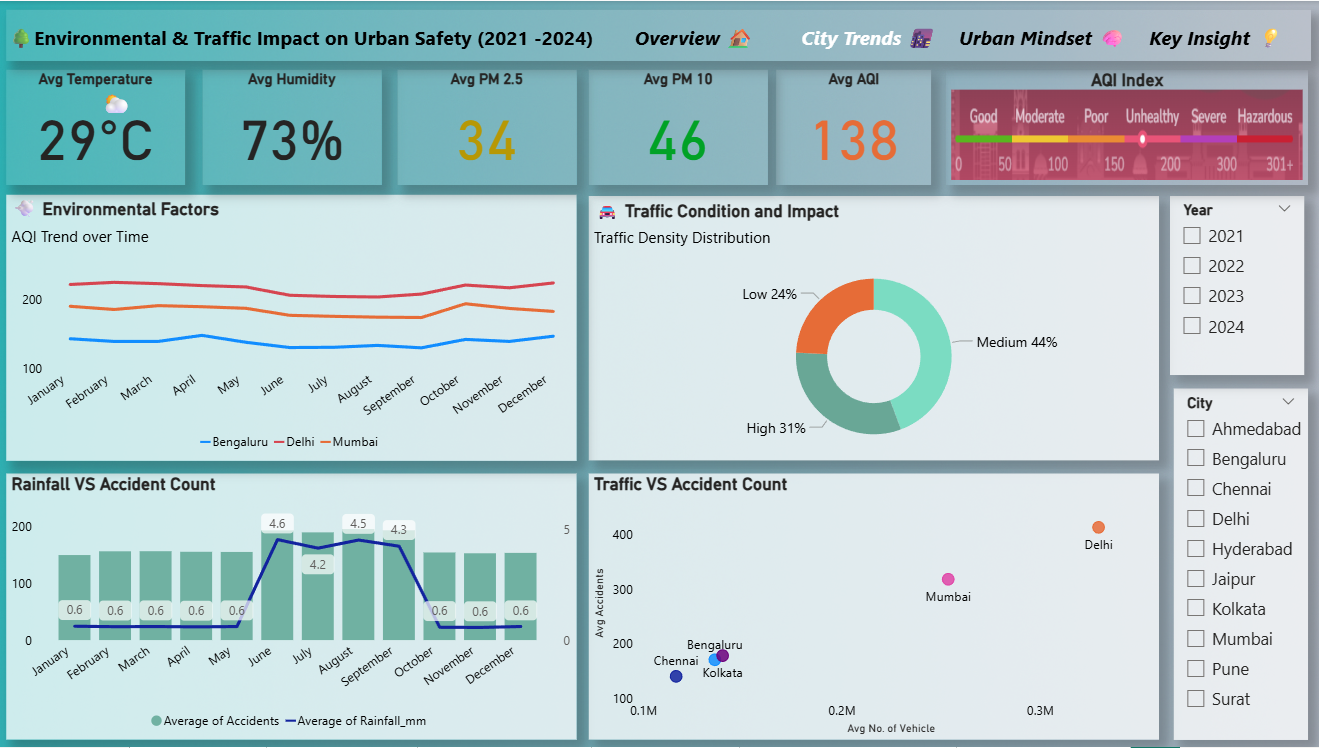

This screenshot's page, from the dashboard's own definition file:
{"tool":"powerbi","page":{"name":"City Trends 🌆","canvas":[1280,720],"ordinal":1},"visuals":[{"type":"shape","box":[11.1,8.6,1259.3,49.4],"z":0},{"type":"donutChart","title":"🚘 Traffic Condition and Impact","fields":{"Category":["Data.Traffic_Density"],"Y":["Sum(Data.Vehicle_count)"]},"box":[572.8,187.7,550.6,255.6],"z":1000},{"type":"lineClusteredColumnComboChart","title":"Rainfall  VS Accident Count","fields":{"Category":["Date Table.Month Name"],"Y":["Avg(Data.Accidents)"],"Y2":["Avg(Data.Rainfall_mm)"]},"box":[10.9,456,550.1,257],"z":2000},{"type":"lineChart","title":"💨 Environmental Factors","fields":{"Category":["Date Table.Month Name"],"Series":["Data.City"],"Y":["Data.Avg AQI"]},"box":[10.9,187,550.1,257],"z":3000},{"type":"scatterChart","title":"Traffic VS Accident Count","fields":{"X":["Data.Vehicle_count"],"Y":["Data.Accident_reported"],"Category":["Data.City"]},"box":[572.8,455.6,550.6,256.8],"z":4000},{"type":"textbox","box":[0,18.1,589.9,36.2],"z":5000},{"type":"pageNavigator","box":[589.9,13.3,674.4,44.6],"z":6000},{"type":"slicer","fields":{"Values":["Medians.City"]},"box":[1138.3,374.1,129.6,339.5],"z":7000},{"type":"slicer","fields":{"Values":["Date Table.Year"]},"box":[1134.6,187.7,129.6,172.8],"z":8000},{"type":"card","title":"Avg Temperature","fields":{"Values":["Data.Avg Temperature Display"]},"box":[10.9,66.4,172.5,111],"z":9000},{"type":"card","title":"Avg Humidity","fields":{"Values":["Data.Average Humidity"]},"box":[200.3,66.4,172.5,111],"z":10000},{"type":"card","title":"Avg PM 2.5 ","fields":{"Values":["Avg(Medians.PM2.5)"]},"box":[388.5,66.4,172.5,111],"z":11000},{"type":"card","title":"Avg PM 10","fields":{"Values":["Avg(Medians.PM10)"]},"box":[573.1,66.4,172.5,111],"z":12000},{"type":"image","title":"AQI Index","box":[918.5,66.7,349.4,111.1],"z":13000},{"type":"card","title":"Avg AQI","fields":{"Values":["Data.Avg AQI"]},"box":[754,66.4,149.6,111],"z":14000},{"type":"textbox","box":[97.7,77.2,48.3,44.6],"z":15000}]}

Visuals, with their boxes in screenshot pixels (x1, y1, x2, y2), scaled from the page's 1280x720 canvas onto the 1319x748 screenshot:
shape: 11:9:1309:60
"🚘 Traffic Condition and Impact" donutChart: 590:195:1158:461
"Rainfall  VS Accident Count" lineClusteredColumnComboChart: 11:474:578:741
"💨 Environmental Factors" lineChart: 11:194:578:461
"Traffic VS Accident Count" scatterChart: 590:473:1158:740
textbox: 0:19:608:56
pageNavigator: 608:14:1303:60
slicer - Medians.City: 1173:389:1307:741
slicer - Date Table.Year: 1169:195:1303:375
"Avg Temperature" card: 11:69:189:184
"Avg Humidity" card: 206:69:384:184
"Avg PM 2.5 " card: 400:69:578:184
"Avg PM 10" card: 591:69:768:184
"AQI Index" image: 946:69:1307:185
"Avg AQI" card: 777:69:931:184
textbox: 101:80:150:127
